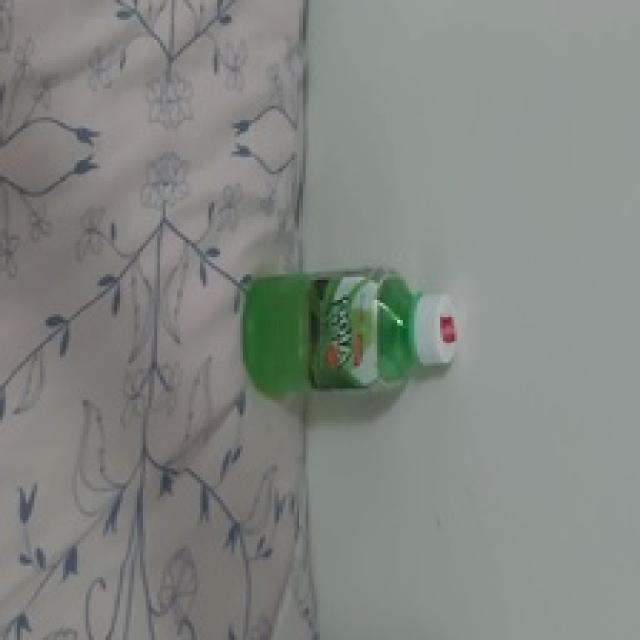plastic: (234, 264, 472, 403)
